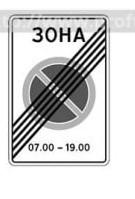road_sign: (9, 14, 111, 168)
